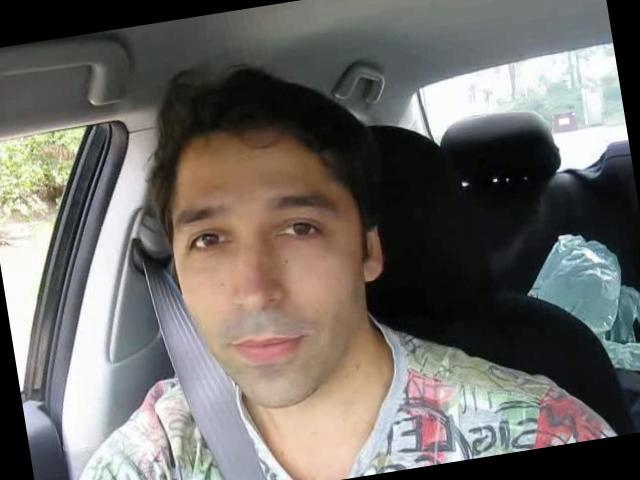eye_open: (269, 209, 331, 252), (180, 220, 237, 262)
face: (158, 171, 372, 422)
